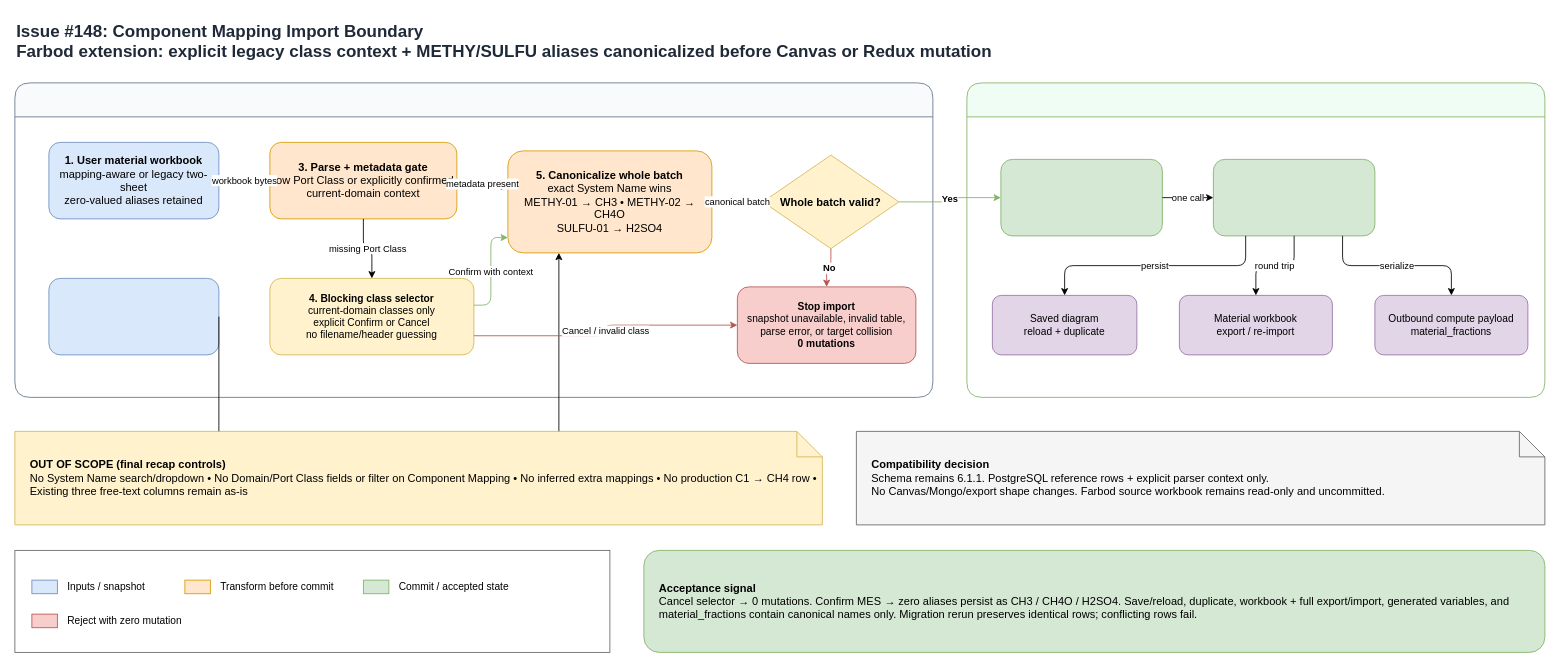
Image size: 1560x667. Some labels were removed from this diagram. Each missing label, with the box of its shape:
2. One mapping snapshot GET /api/component-mappings validate complete table: (48, 278, 219, 355)
6. Sole commit callback full canonical batch only: (1000, 159, 1162, 236)
7. Canvas + Redux remove affected edges updateOrAddStream(...): (1213, 159, 1375, 236)
Legend: (14, 550, 610, 652)
Pre-commit import boundary (zero Canvas/Redux mutation): (14, 82, 933, 397)
Single commit and durable consumers: (966, 82, 1545, 397)
